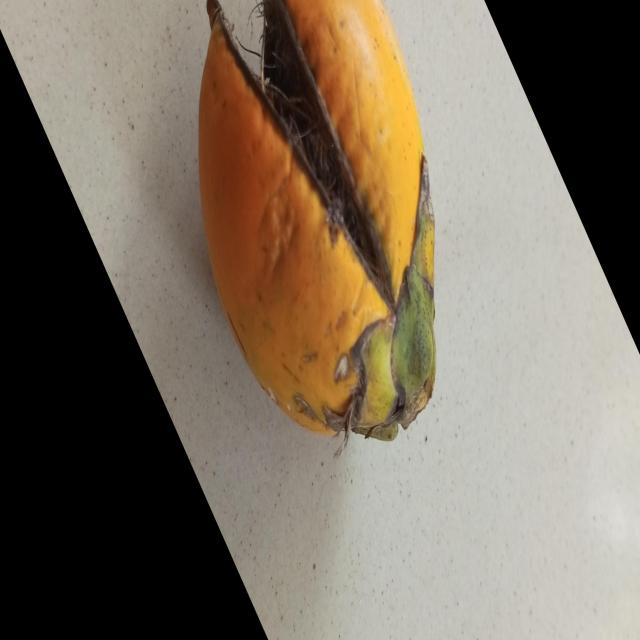damaged: (197, 0, 438, 443)
